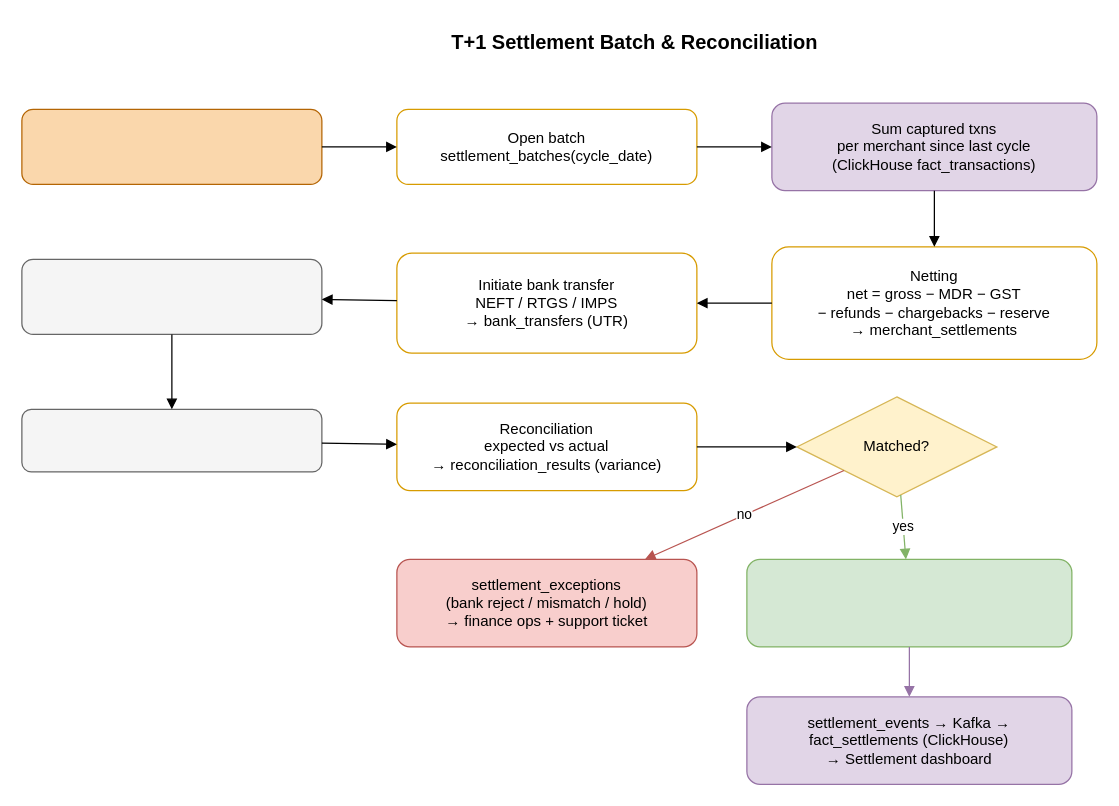
The diagram is 1119 pixels wide and 806 high, and some of its shapes have lost their labels. Here are the shapes that lost their labels. From the top down, the centre of each, then its label:
At (171,146): "Airflow Settlement DAG (daily cut-off, settlement_window)".
At (171,296): "Sponsor Bank processes payout".
At (171,440): "End-of-day bank statement".
At (909,602): "status = paid set paid_at, tat_minutes → report + UTR to merchant".
